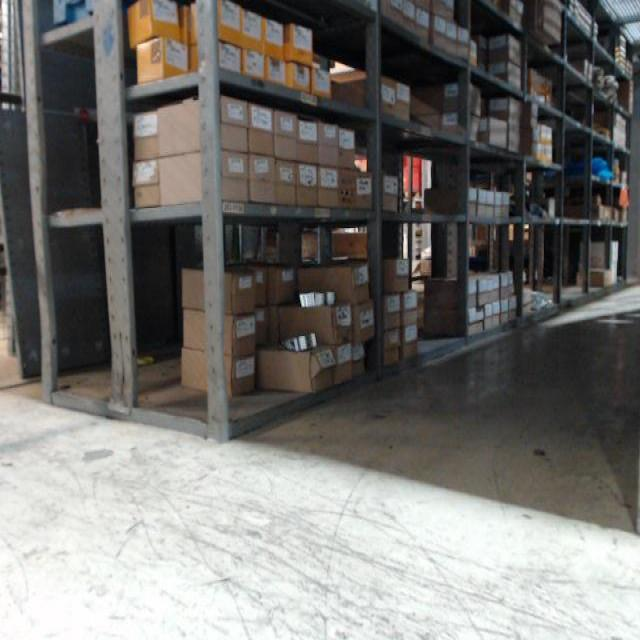small_load_carrier: (52, 1, 92, 24)
